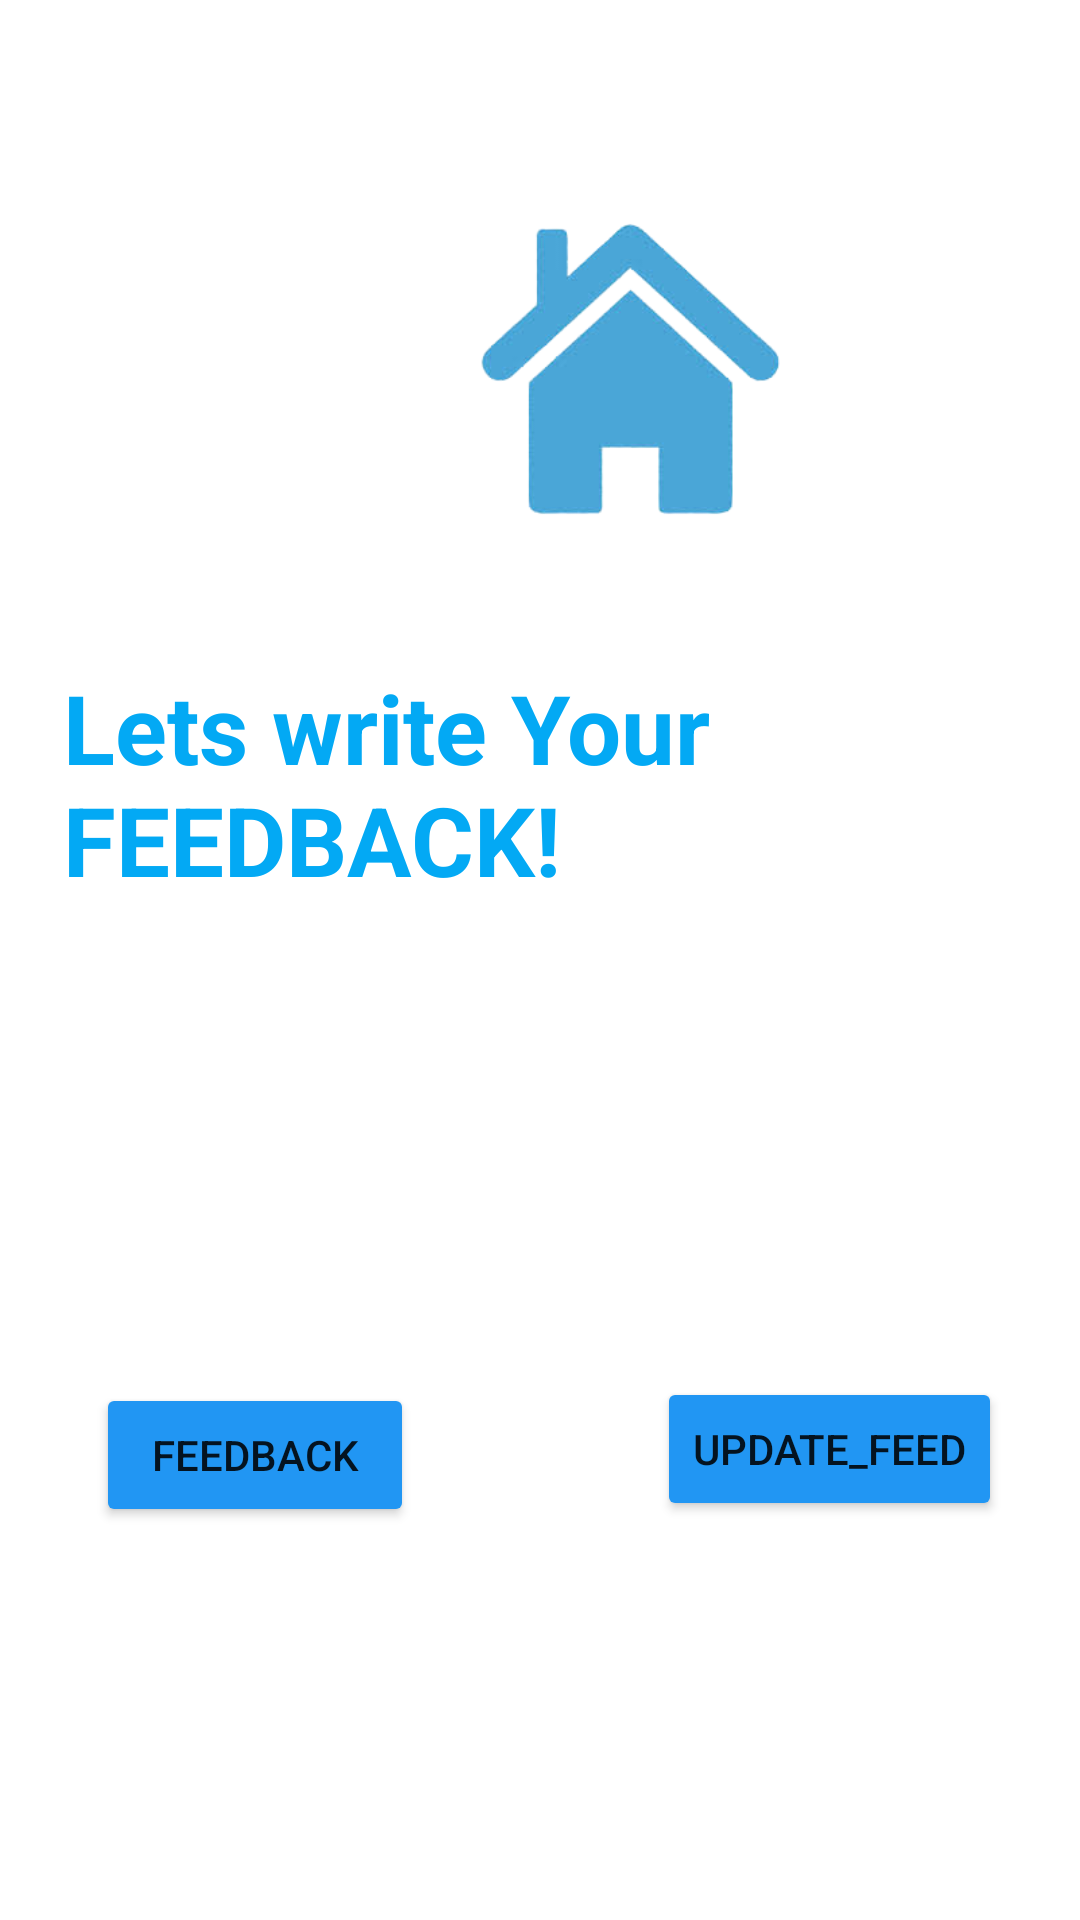

Where icons sit on this 1080x1920 app screen, as bbox=(x1, y1, x2, y2):
home: bbox=(481, 224, 779, 514)
